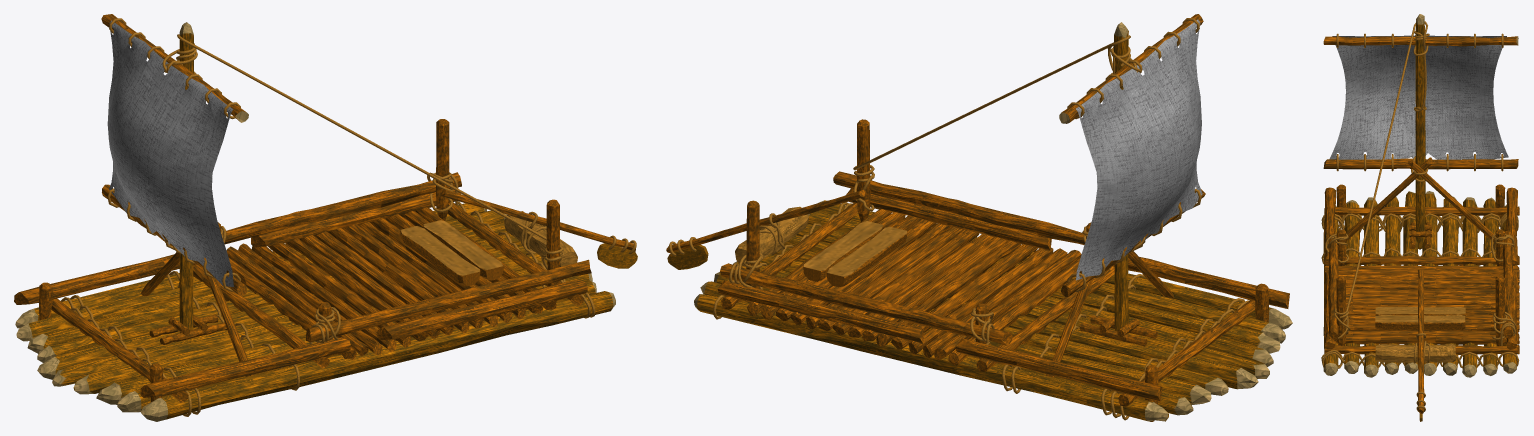
Rendered from vehicle_wooden_boat.glb.
3 views of the same model, side by side, from view 1: azimuth 30°, elevation 25°; view 2: azimuth 150°, elevation 25°; view 3: azimuth 270°, elevation 25° (orthographic). The views are drawn at different scales.
Parts seen in each view (by area): view 1: Cylinder.074, Cylinder.055, Plane.002, BezierCurve.015; view 2: Cylinder.074, Cylinder.055, Plane.002, BezierCurve.015; view 3: Cylinder.074, Plane.002, Cylinder.055, BezierCurve.015.
Boxes of the visible parts, x1=… form: Cylinder.074: x1=14, y1=14, x2=635, y2=402; Cylinder.055: x1=15, y1=22, x2=637, y2=421; Plane.002: x1=107, y1=20, x2=233, y2=286; BezierCurve.015: x1=61, y1=18, x2=636, y2=416; Cylinder.074: x1=666, y1=14, x2=1289, y2=421; Cylinder.055: x1=667, y1=22, x2=1292, y2=421; Plane.002: x1=1076, y1=19, x2=1202, y2=280; BezierCurve.015: x1=669, y1=18, x2=1248, y2=420; Cylinder.074: x1=1323, y1=36, x2=1519, y2=413; Plane.002: x1=1329, y1=35, x2=1508, y2=159; Cylinder.055: x1=1323, y1=14, x2=1516, y2=421; BezierCurve.015: x1=1321, y1=21, x2=1519, y2=411.
Size of the model in its own units: 7.17 by 4.08 by 2.89.
Materials: 4 (4 with a texture image).
